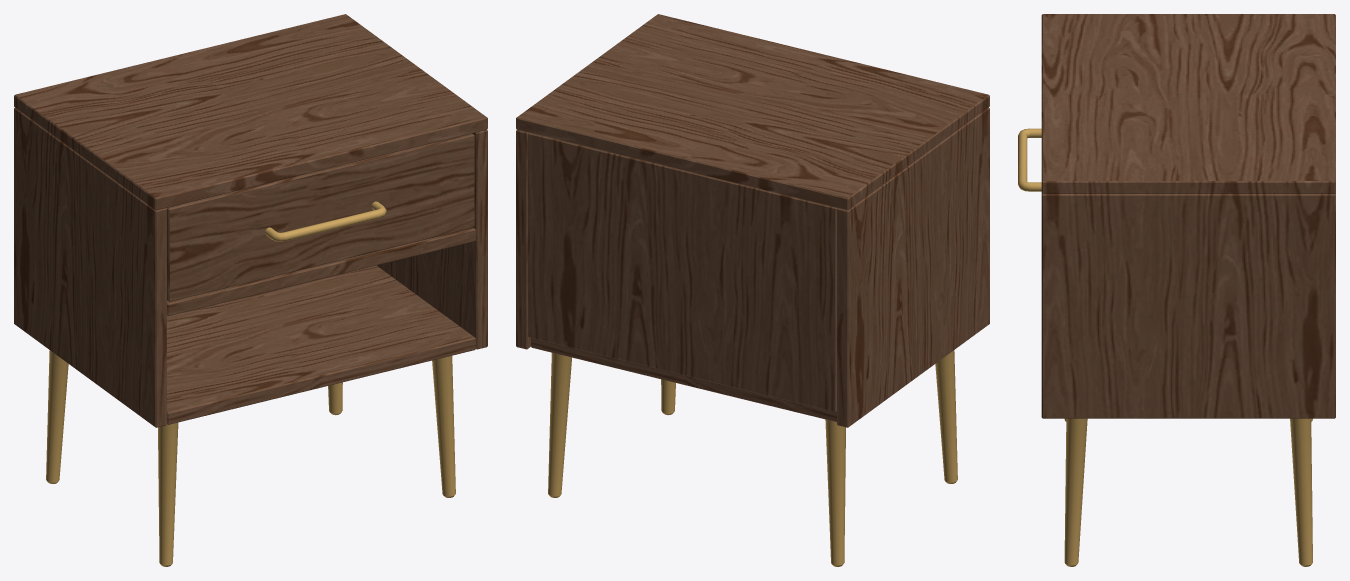
Rendered from mesilla_nogal_50.glb.
3 renders of one model, left to right at view 1: azimuth 30°, elevation 25°; view 2: azimuth 150°, elevation 25°; view 3: azimuth 270°, elevation 25°, orthographic. The views are drawn at different scales.
Parts seen in each view (by area): view 1: mesilla_nogal_50; view 2: mesilla_nogal_50; view 3: mesilla_nogal_50.
Part boxes in pixels (x1=…): mesilla_nogal_50: x1=14, y1=14, x2=487, y2=566; mesilla_nogal_50: x1=516, y1=14, x2=989, y2=566; mesilla_nogal_50: x1=1018, y1=14, x2=1335, y2=566.
Bounding box in the file's own units: 0.5 × 0.5502 × 0.3997.
2 materials, 1 textured.
